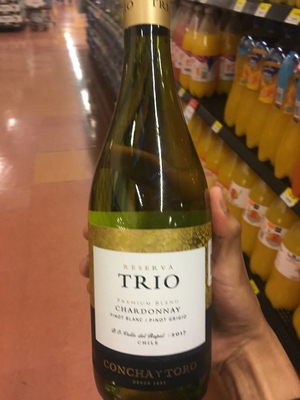trio chardonnay: (86, 10, 234, 400)
